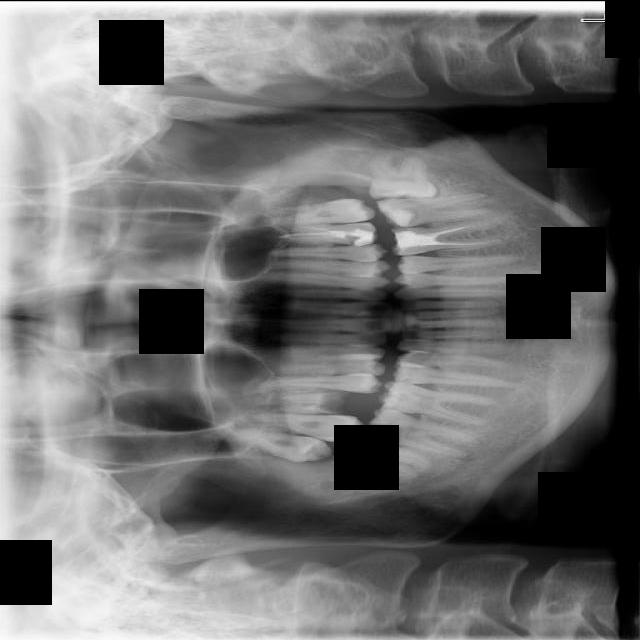3M ESPE Implant: (228, 424, 334, 466)
52: (374, 188, 419, 238), (389, 225, 424, 256), (340, 220, 379, 246), (365, 421, 404, 446)
73: (422, 215, 504, 256), (259, 224, 341, 243), (598, 22, 602, 26)
Biomet 3i Implant: (368, 151, 437, 199)
Blue Sky Bio Implant: (375, 190, 493, 229)
Caries: (235, 411, 364, 442), (261, 195, 375, 228)
Implant: (358, 404, 484, 462)
Keystone Dental Implant: (331, 428, 439, 488)
